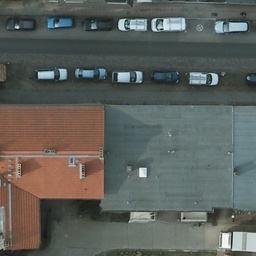car: (214, 19, 249, 35), (33, 67, 68, 83), (118, 17, 150, 33), (188, 71, 218, 88), (84, 16, 114, 32), (110, 69, 142, 84), (149, 68, 179, 83), (5, 17, 37, 31), (74, 67, 105, 81), (47, 17, 78, 30)
van: (153, 16, 185, 35)
